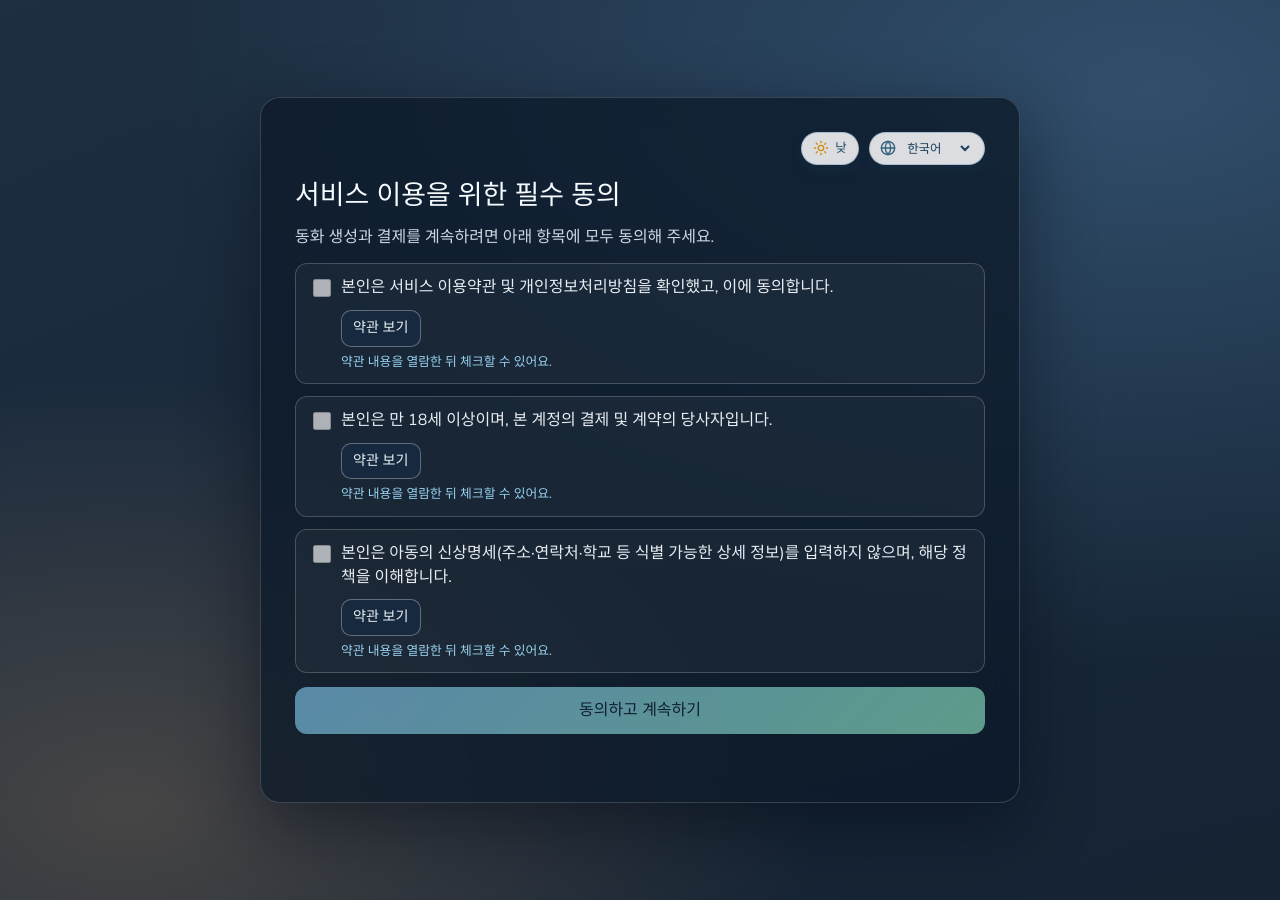
Test: AgreementsPage › 3개 약관을 모두 열람하고 체크해야 제출이 활성화된다
Step 1. Click the button "약관 보기" below "본인은 서비스 이용약관 및 개인정보처리방침을 확인했고, 이에 동의합니다." → (381, 328), box [341,310,420,346]
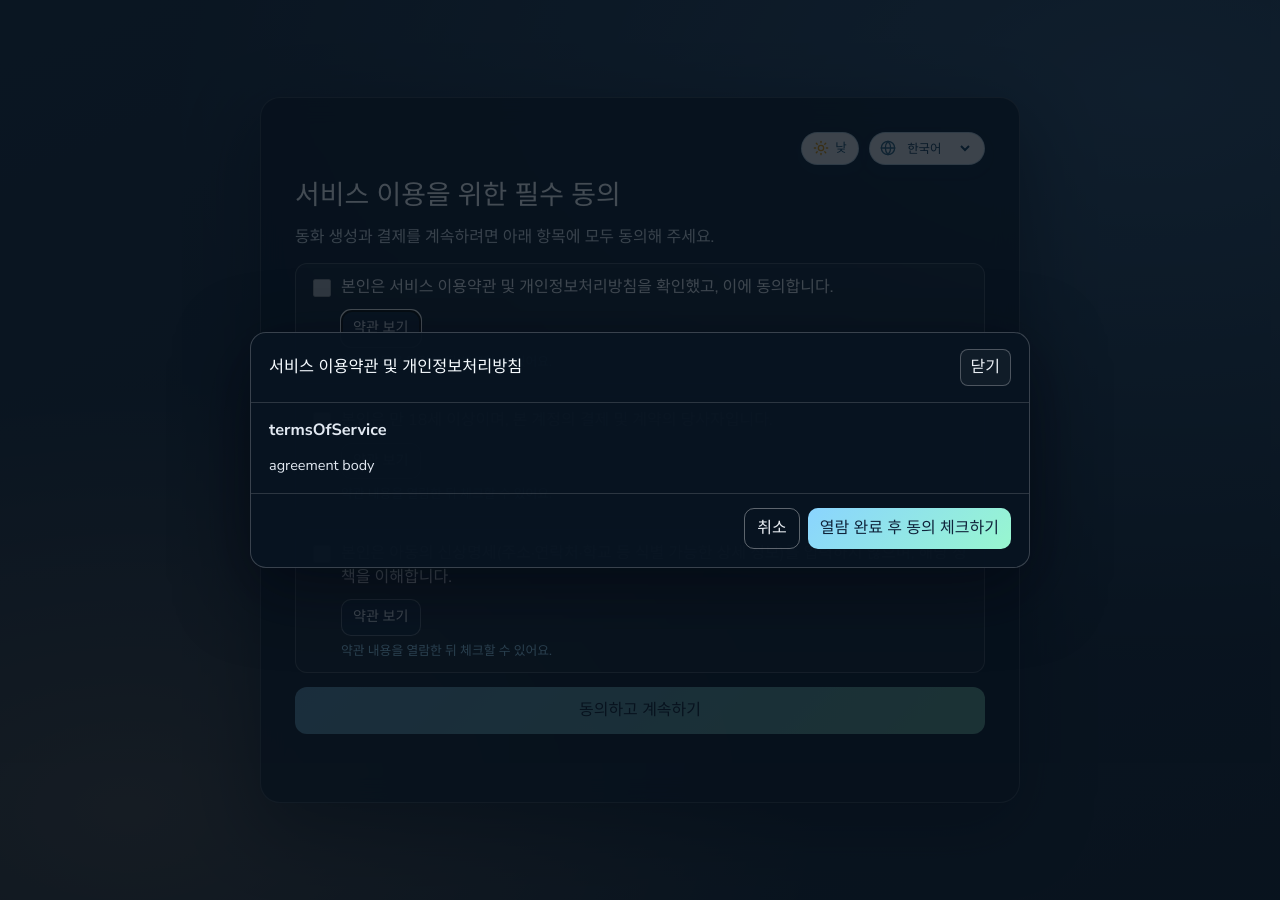
Result: the dialog is shown at [250,332,1030,568]
Step 2. Click the button "열람 완료 후 동의 체크하기" → (909, 528), box [808,508,1011,549]
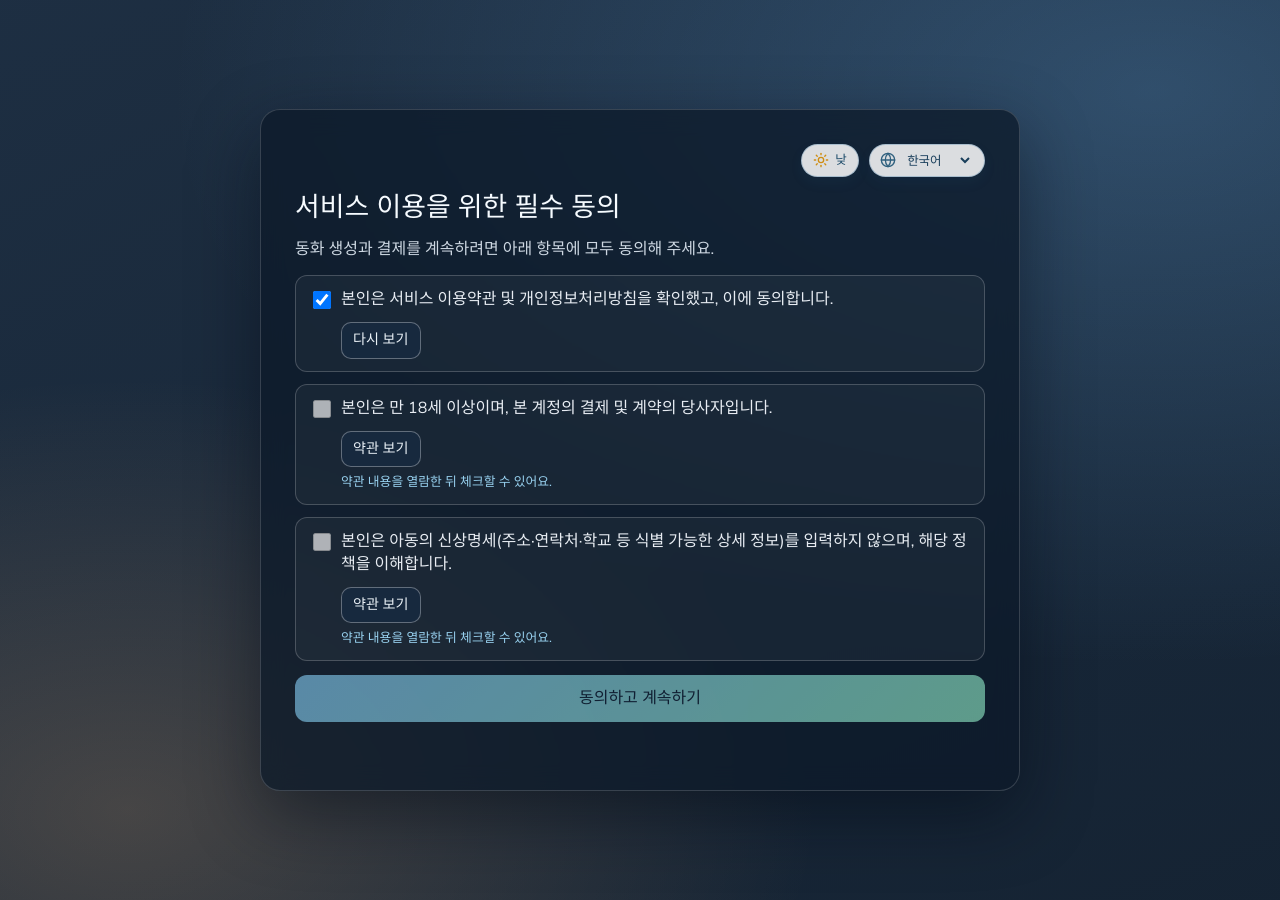
Result: the dialog is gone
Step 3. Click the button "약관 보기" below "본인은 만 18세 이상이며, 본 계정의 결제 및 계약의 당사자입니다." → (381, 449), box [341,431,420,467]
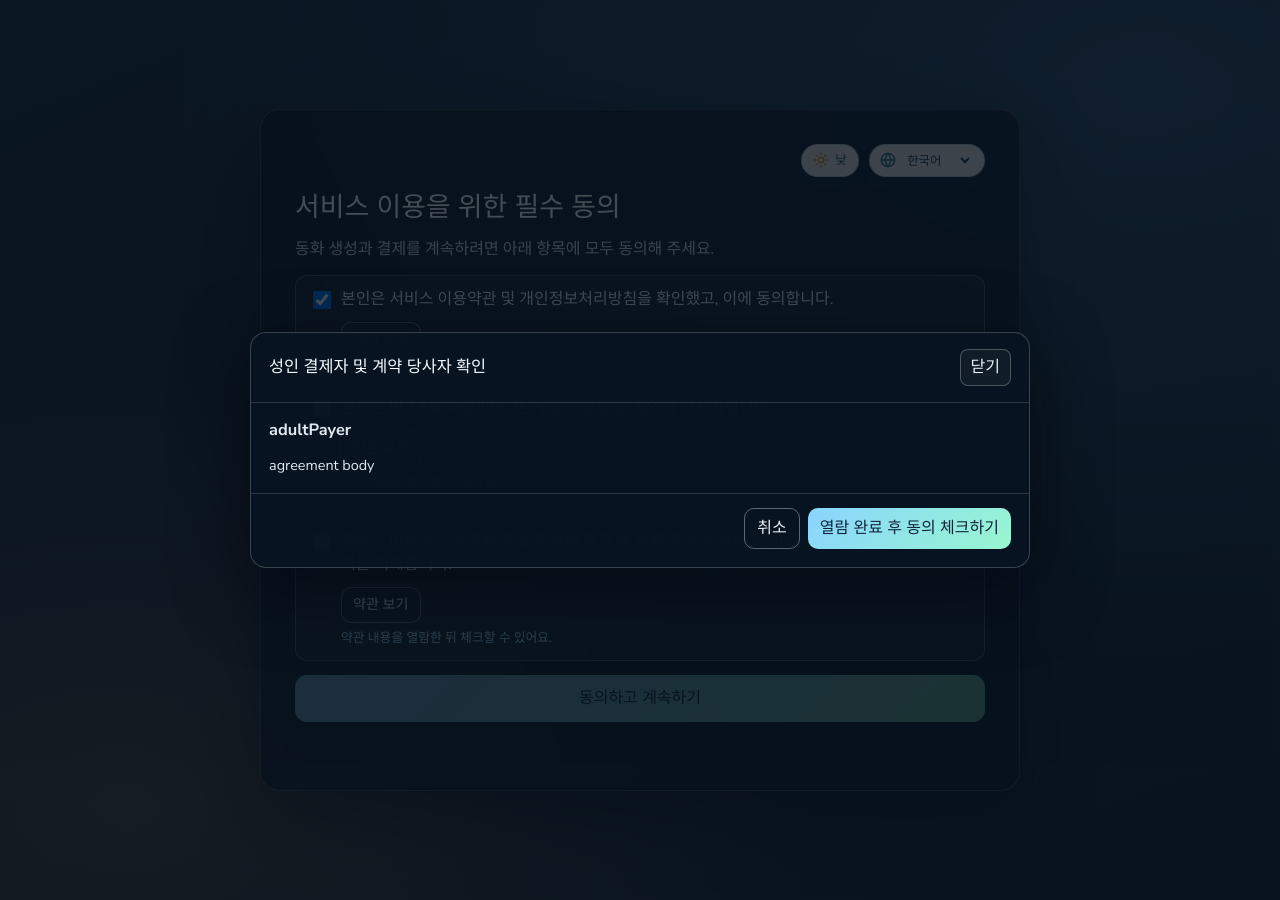
Result: the dialog is shown at [250,332,1030,568]
Step 4. Click the button "열람 완료 후 동의 체크하기" → (909, 528), box [808,508,1011,549]
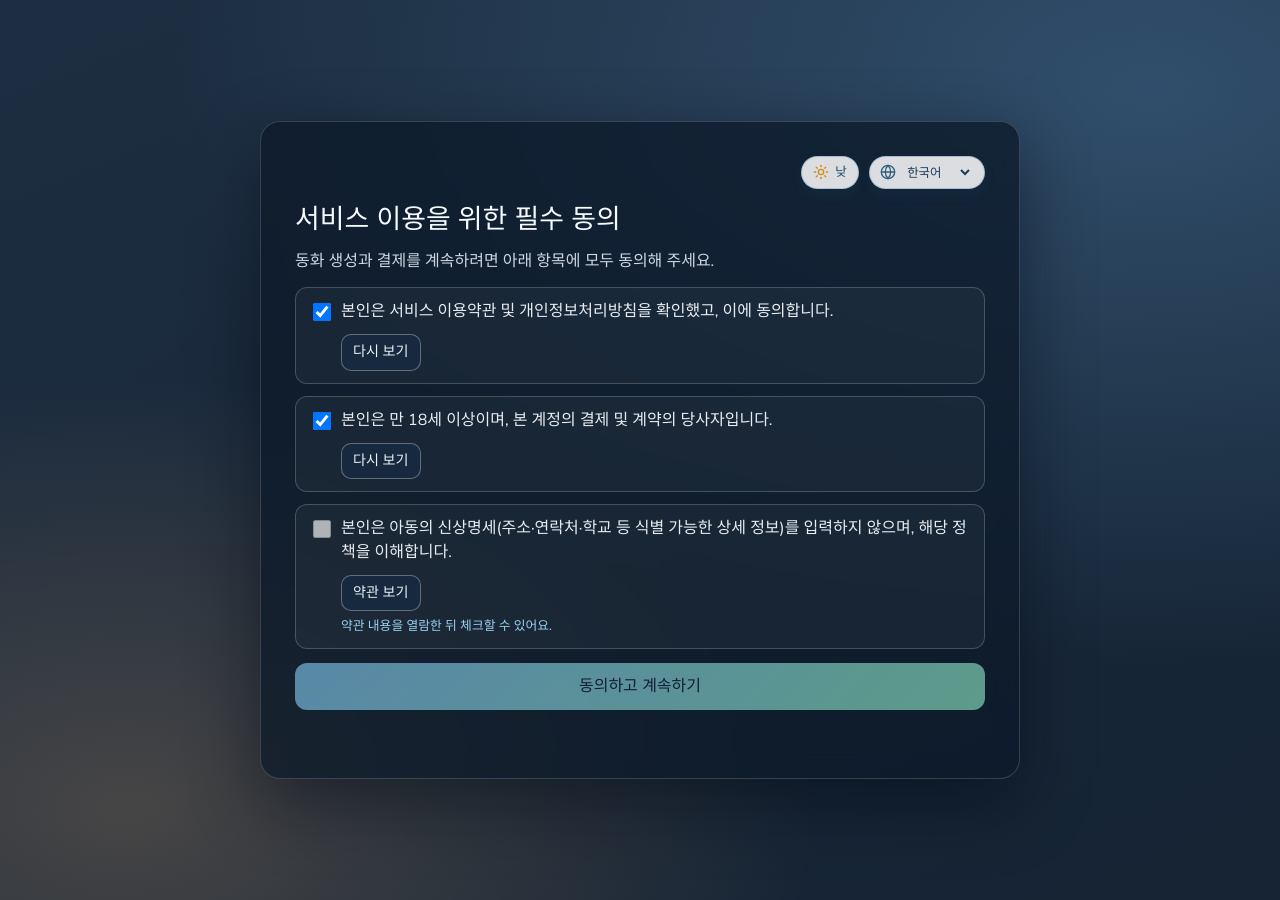
Result: the dialog is gone
Step 5. Click the button "약관 보기" → (381, 593), box [341,575,420,611]
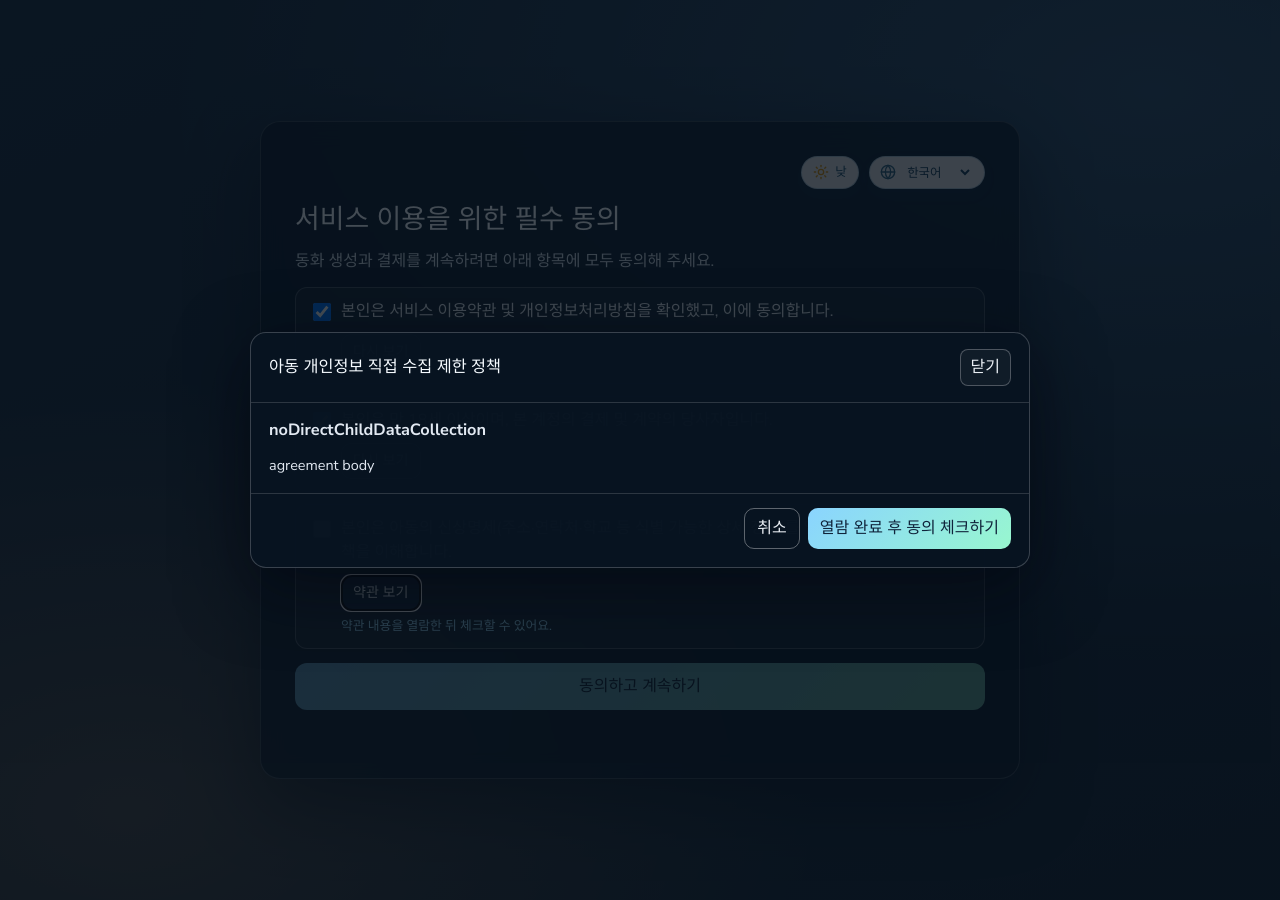
Result: the dialog is shown at [250,332,1030,568]
Step 6. Click the button "열람 완료 후 동의 체크하기" → (909, 528), box [808,508,1011,549]
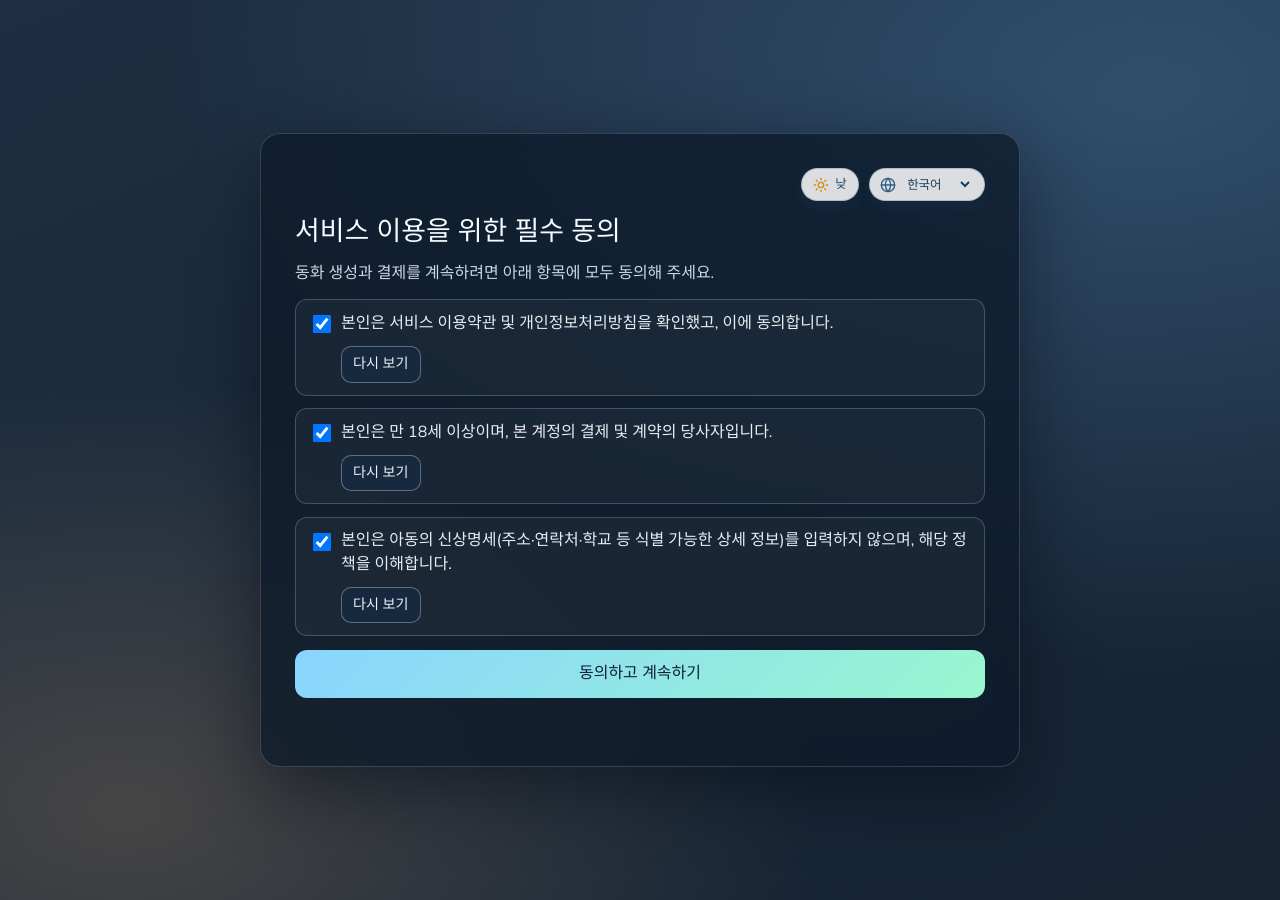
Result: the checkbox labelled "본인은 서비스 이용약관 및 개인정보처리방침을 확인했고, 이에 동의합니다." is checked at [313,316,331,334]
Result: the checkbox labelled "본인은 만 18세 이상이며, 본 계정의 결제 및 계약의 당사자입니다." is checked at [313,424,331,442]
Result: the dialog is gone
